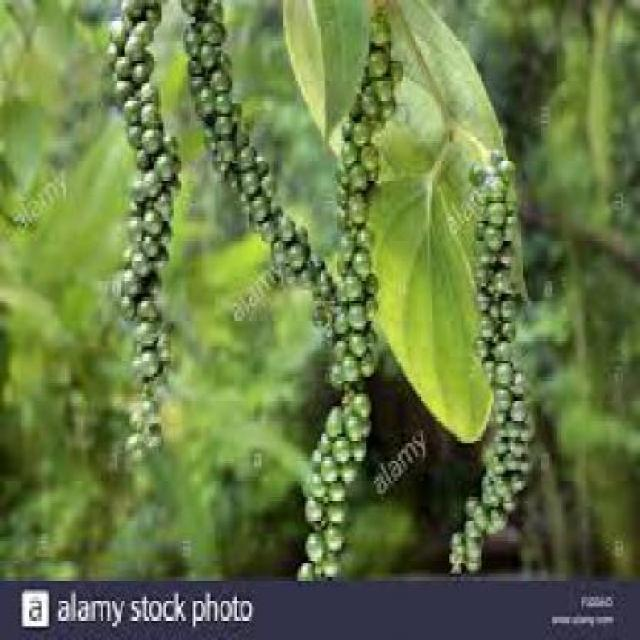UNRIPE: (315, 14, 391, 580), (88, 0, 177, 468), (440, 134, 535, 563)
